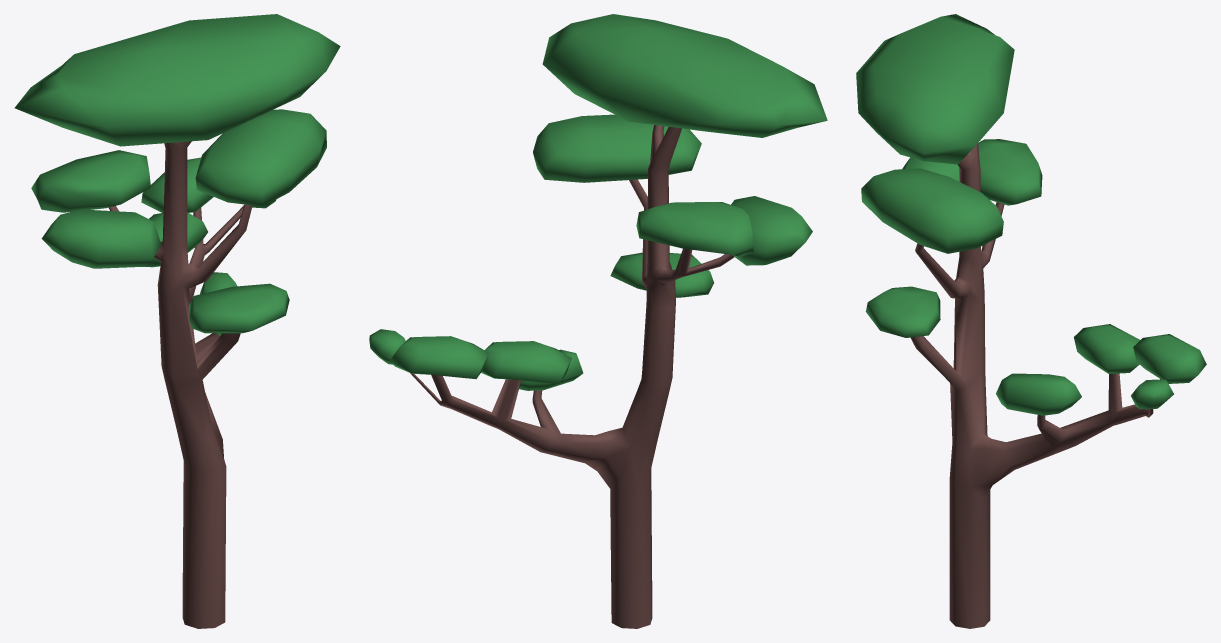
Rendered from Arvore_Japonesa_4.fbx.
The picture shows the model from 3 angles, left to right: view 1: azimuth 30°, elevation 25°; view 2: azimuth 150°, elevation 25°; view 3: azimuth 270°, elevation 25°; orthographic projection. The views are drawn at different scales.
Visible parts, largest first — view 1: Arvore_Japonesa_4; view 2: Arvore_Japonesa_4; view 3: Arvore_Japonesa_4.
Part boxes in pixels (x1,y1,x2,y2): Arvore_Japonesa_4: (14, 14, 340, 628); Arvore_Japonesa_4: (369, 14, 827, 628); Arvore_Japonesa_4: (856, 14, 1206, 628).
Bounding box in the file's own units: 2.77 × 3.1 × 4.75.
